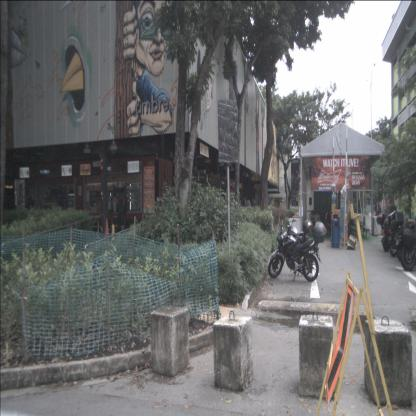human-pedestrian-adult: (116, 186, 127, 238), (24, 200, 33, 242), (325, 209, 333, 232), (347, 210, 354, 236), (308, 210, 316, 231), (326, 209, 333, 231), (240, 196, 246, 220), (242, 194, 247, 221), (250, 197, 256, 219), (246, 197, 251, 221), (374, 201, 378, 222), (378, 204, 382, 221)
movable_object-trafficcone: (102, 217, 110, 244)
vehicle-motorcycle: (268, 220, 326, 282), (388, 210, 415, 263), (376, 212, 411, 252), (282, 217, 314, 256), (384, 218, 410, 257), (399, 224, 416, 272)
